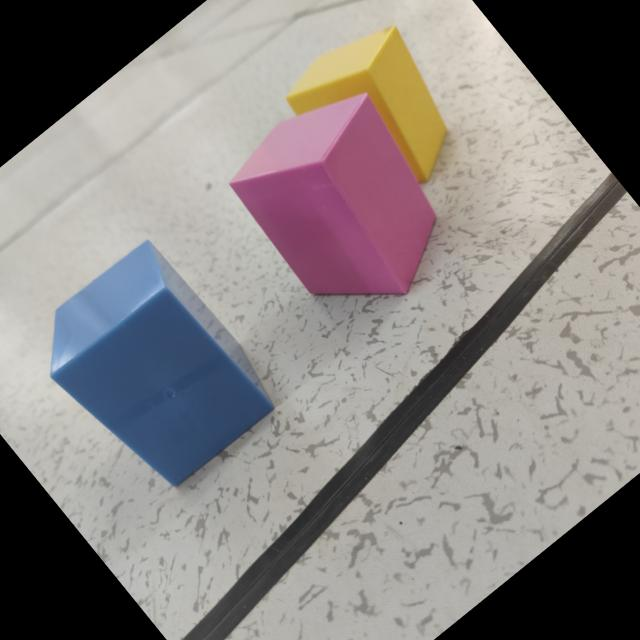blue: (50, 241, 276, 487)
pink: (231, 91, 440, 299)
yellow: (287, 27, 449, 184)
